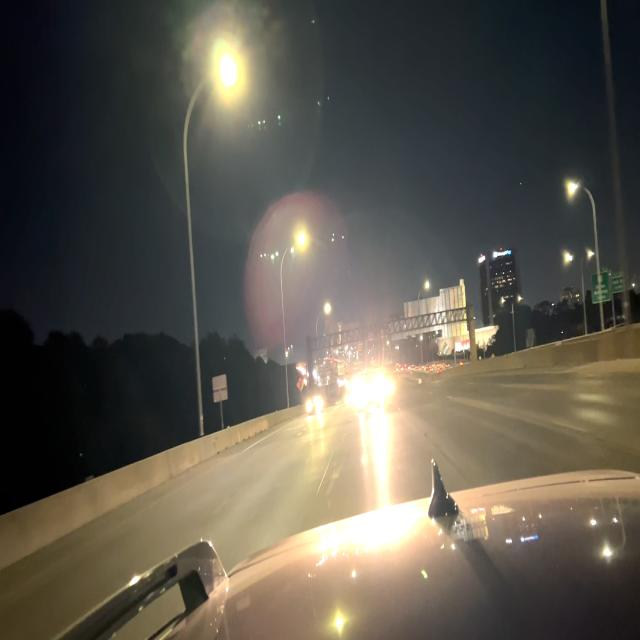back-of-sign: (387, 279, 468, 343), (212, 371, 228, 408)
